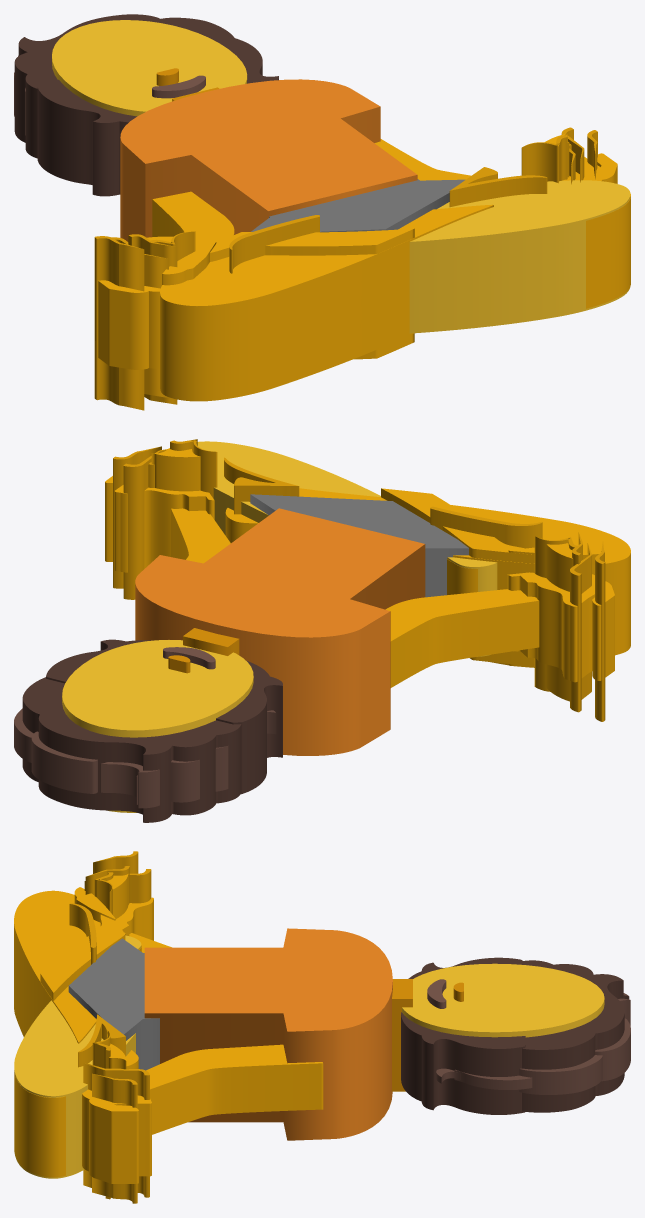
File: emoji_u1f9d8.glb
3 views of the same model, one above another, from view 1: azimuth 30°, elevation 25°; view 2: azimuth 150°, elevation 25°; view 3: azimuth 270°, elevation 25° (orthographic). The views are drawn at different scales.
Visible parts, largest first — view 1: emoji_u1f9d8; view 2: emoji_u1f9d8; view 3: emoji_u1f9d8.
Boxes of the visible parts, x1=… form: emoji_u1f9d8: x1=14, y1=14, x2=630, y2=410; emoji_u1f9d8: x1=14, y1=439, x2=630, y2=822; emoji_u1f9d8: x1=14, y1=851, x2=630, y2=1203.
Size of the model in its own units: 0.029 by 0.009 by 0.0339.
